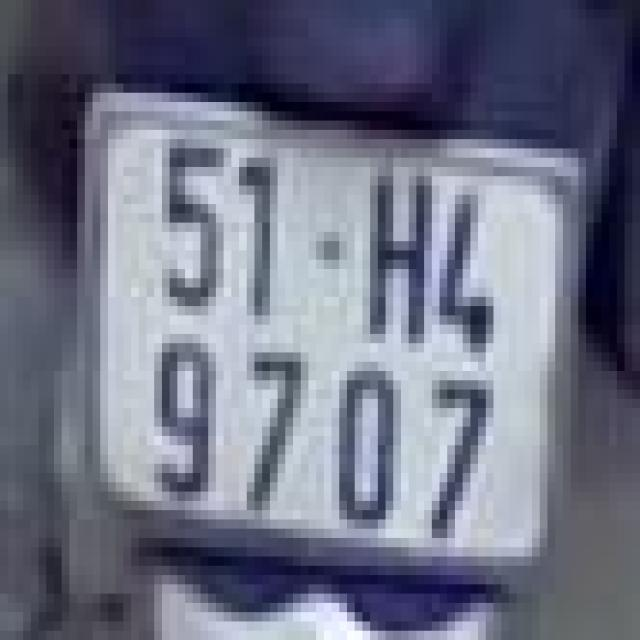0: (324, 357, 409, 533)
1: (224, 130, 285, 334)
4: (428, 172, 513, 366)
5: (154, 130, 232, 324)
7: (416, 366, 502, 552), (224, 343, 308, 520)
9: (143, 334, 220, 510)
H: (362, 162, 440, 357)
